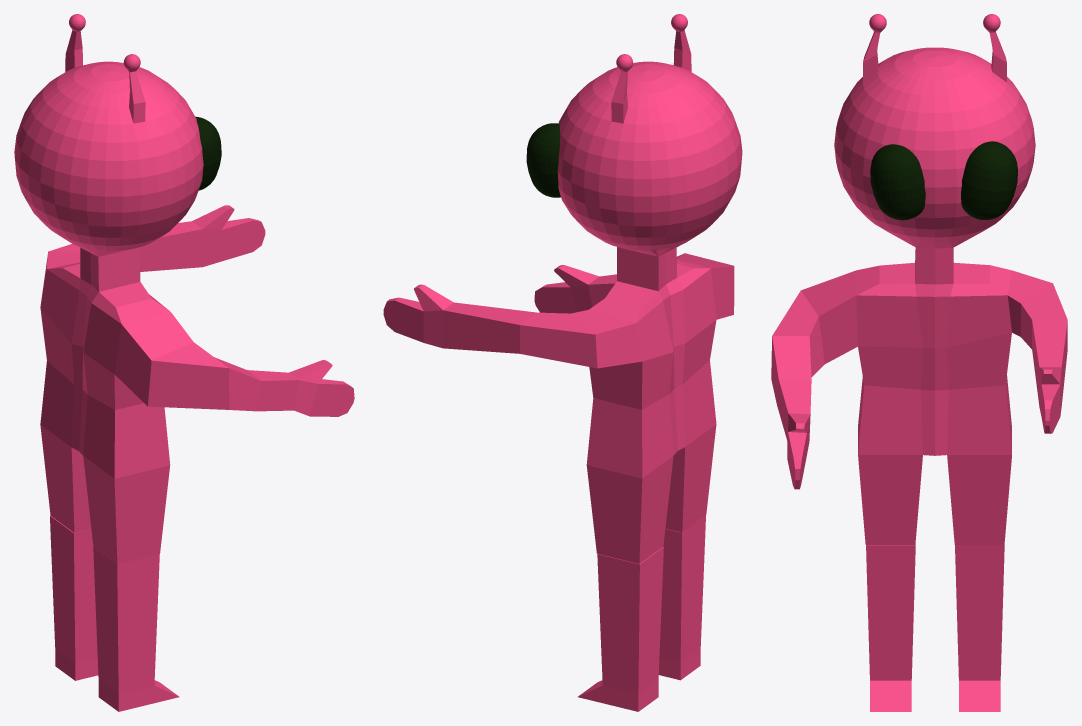
File: Alien_Pink.fbx
The picture shows the model from 3 angles, left to right: view 1: azimuth 30°, elevation 25°; view 2: azimuth 150°, elevation 25°; view 3: azimuth 270°, elevation 25°; orthographic projection. The views are drawn at different scales.
Visible parts, largest first — view 1: ylä kroppa, Sääri L, Reisi L, Sääri R, Reisi R, simmut; view 2: ylä kroppa, Sääri R, Reisi R, Sääri L, Reisi L, simmut; view 3: ylä kroppa, Sääri L, Sääri R, simmut, Reisi R, Reisi L.
Part boxes in pixels (x1,y1,x2,y2): ylä kroppa: (14, 14, 354, 478); Sääri L: (93, 547, 179, 711); Reisi L: (83, 456, 169, 564); Sääri R: (50, 515, 98, 680); Reisi R: (40, 425, 91, 532); simmut: (195, 116, 221, 190); ylä kroppa: (383, 14, 742, 478); Sääri R: (578, 547, 663, 711); Reisi R: (586, 456, 673, 563); Sääri L: (658, 515, 705, 680); Reisi L: (665, 424, 716, 532); simmut: (526, 123, 560, 197); ylä kroppa: (771, 14, 1067, 489); Sääri L: (866, 544, 915, 711); Sääri R: (955, 545, 1004, 711); simmut: (870, 141, 1017, 220); Reisi R: (947, 455, 1011, 544); Reisi L: (858, 455, 922, 544).
Bounding box in the file's own units: 539 × 1153 × 459.
